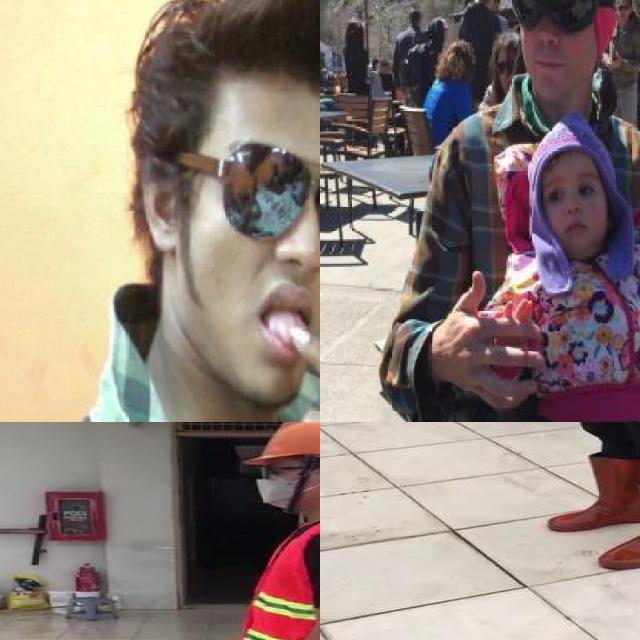No_Glasses: (538, 173, 604, 202)
boots: (539, 448, 640, 535), (600, 480, 640, 573)
face_mask: (247, 461, 306, 511)
face_nomask: (221, 145, 320, 348), (509, 0, 586, 79), (539, 179, 605, 241)
glasses: (178, 134, 320, 257), (501, 0, 600, 37)
hand_noglove: (423, 269, 547, 411)
head_helmet: (241, 422, 320, 467)
head_nohelmet: (162, 0, 320, 116), (527, 118, 612, 171)
person: (38, 0, 320, 422), (392, 0, 640, 422), (209, 422, 320, 640), (522, 422, 640, 574)
vest: (238, 516, 320, 640)
